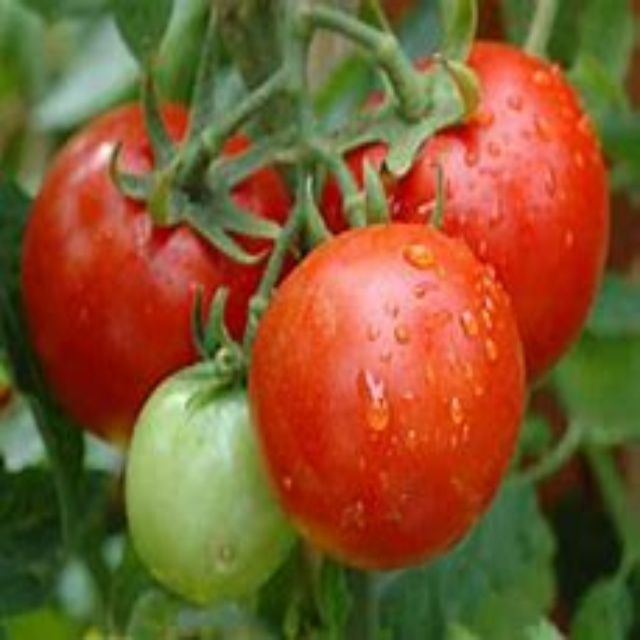tomato: (320, 39, 606, 378), (250, 221, 524, 568), (21, 109, 311, 431), (122, 337, 293, 601)
